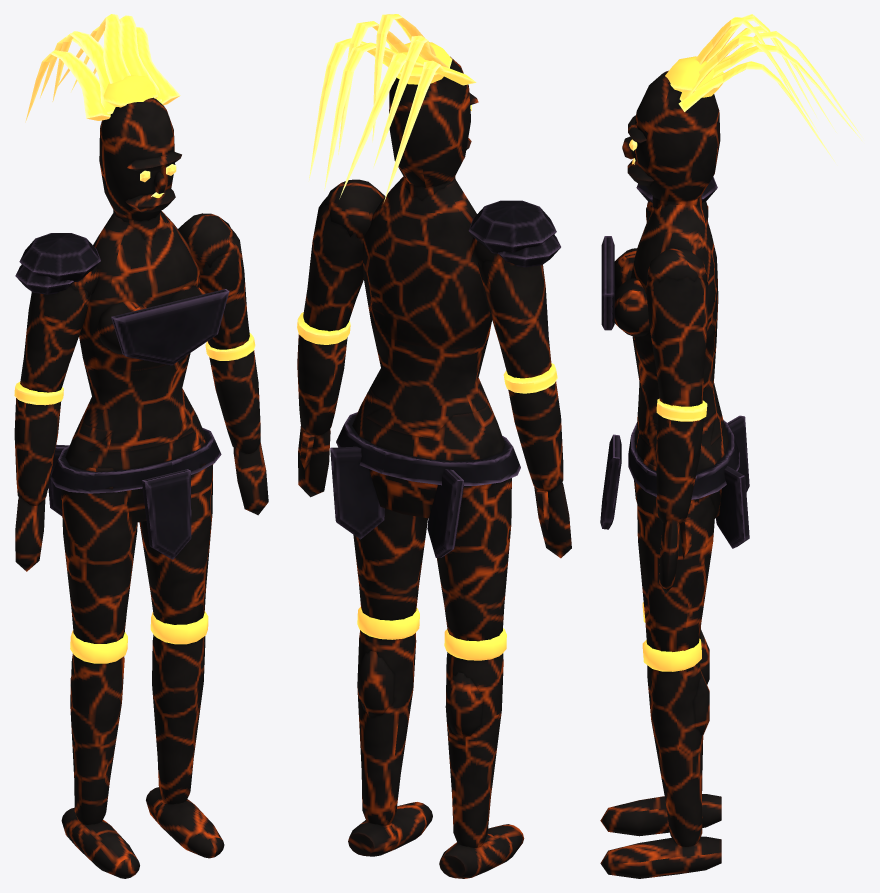
Rendered from underworld-surtling-fire-feminine.glb.
The picture shows the model from 3 angles, left to right: view 1: azimuth 30°, elevation 25°; view 2: azimuth 150°, elevation 25°; view 3: azimuth 270°, elevation 25°; orthographic projection. The views are drawn at different scales.
Parts seen in each view (by area): view 1: LeftUpperLeg.thigh, Chest.chest, Spine.abdomen, LeftLowerLeg.shin, RightLowerLeg.shin, Head.head, RightUpperLeg.thigh, Chest.breastguard, LeftUpperArm.upper-arm, Hips.pelvis, LeftLowerArm.forearm, RightLowerArm.forearm (+24 smaller); view 2: Chest.chest, Spine.abdomen, LeftUpperLeg.thigh, Hips.pelvis, LeftLowerLeg.shin, RightLowerLeg.shin, Head.head, LeftUpperArm.upper-arm, RightUpperLeg.thigh, RightUpperArm.upper-arm, Hips.girdle, LeftLowerArm.forearm (+24 smaller); view 3: RightUpperLeg.thigh, Head.head, RightLowerLeg.shin, RightUpperArm.upper-arm, Chest.chest, RightLowerArm.forearm, RightFoot.foot, Spine.abdomen, LeftFoot.foot, Hips.girdle, Hips.pelvis, Hips.hip-plate-0 (+17 smaller).
Part boxes in pixels (x1,y1,x2,y2): LeftUpperLeg.thigh: (61, 467, 137, 643); Chest.chest: (79, 211, 199, 371); Spine.abdomen: (79, 340, 200, 452); LeftLowerLeg.shin: (70, 654, 124, 824); RightLowerLeg.shin: (152, 634, 205, 804); Head.head: (99, 97, 175, 221); RightUpperLeg.thigh: (139, 439, 213, 624); Chest.breastguard: (111, 289, 229, 365); LeftUpperArm.upper-arm: (20, 286, 92, 392); Hips.pelvis: (65, 405, 206, 523); LeftLowerArm.forearm: (14, 398, 61, 505); RightLowerArm.forearm: (209, 350, 260, 453); Chest.chest: (362, 176, 491, 349); Spine.abdomen: (366, 300, 488, 438); LeftUpperLeg.thigh: (437, 478, 511, 641); Hips.pelvis: (352, 388, 506, 518); LeftLowerLeg.shin: (445, 652, 503, 847); RightLowerLeg.shin: (357, 630, 416, 825); Head.head: (389, 56, 470, 187); LeftUpperArm.upper-arm: (478, 257, 551, 378); RightUpperLeg.thigh: (353, 508, 427, 620); RightUpperArm.upper-arm: (303, 196, 363, 331); Hips.girdle: (336, 412, 520, 485); LeftLowerArm.forearm: (508, 381, 563, 492); RightUpperLeg.thigh: (636, 459, 715, 651); Head.head: (634, 70, 720, 201); RightLowerLeg.shin: (647, 661, 703, 846); RightUpperArm.upper-arm: (646, 276, 708, 406); Chest.chest: (630, 204, 718, 361); RightLowerArm.forearm: (656, 414, 704, 524); RightFoot.foot: (600, 836, 721, 878); Spine.abdomen: (633, 332, 724, 448); LeftFoot.foot: (600, 794, 721, 836); Hips.girdle: (628, 420, 739, 499); Hips.pelvis: (634, 413, 729, 518); Hips.hip-plate-0: (716, 466, 749, 548).
Size of the model in its own units: 0.6603 by 2.01 by 0.5771.
Materials: 3 (3 with a texture image).
